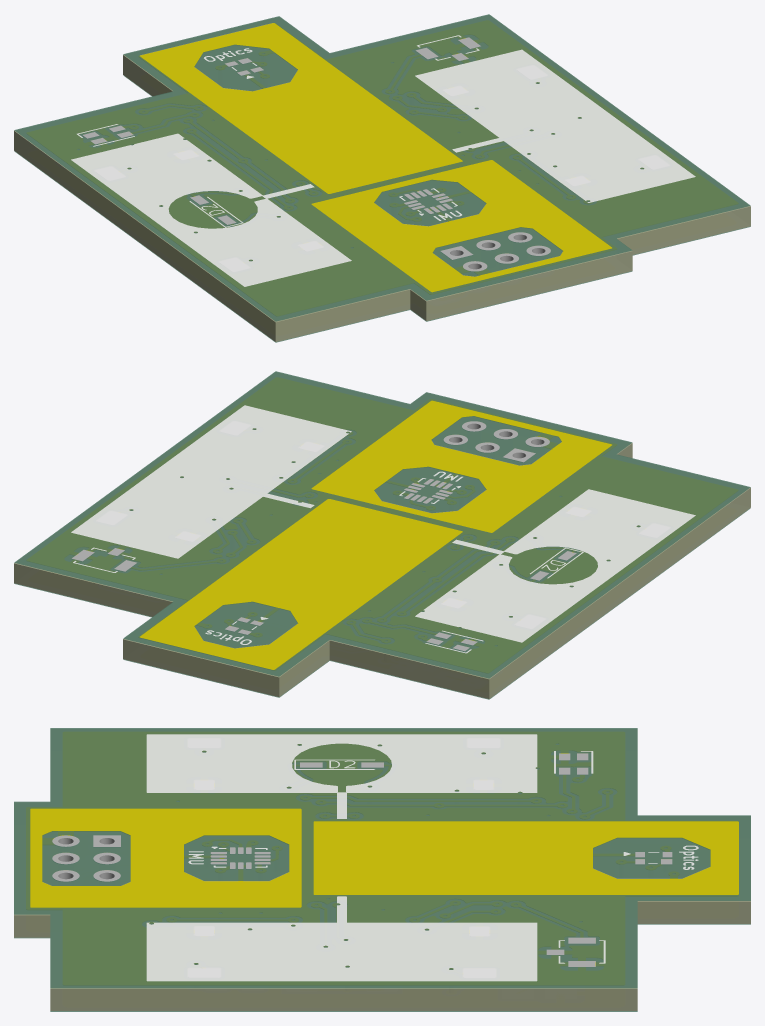
Rendered from hubble-sao-2.glb.
3 views of the same model, one above another, from view 1: azimuth 30°, elevation 25°; view 2: azimuth 150°, elevation 25°; view 3: azimuth 270°, elevation 25° (orthographic). The views are drawn at different scales.
Parts seen in each view (by area): view 1: =>[0:1:1:2], =>[0:1:1:7], =>[0:1:1:5], =>[0:1:1:9]; view 2: =>[0:1:1:2], =>[0:1:1:7], =>[0:1:1:5], =>[0:1:1:9]; view 3: =>[0:1:1:2], =>[0:1:1:7], =>[0:1:1:5], =>[0:1:1:9].
Part boxes in pixels (bbox=[...]): =>[0:1:1:2]: bbox=[27, 21, 737, 315]; =>[0:1:1:7]: bbox=[14, 14, 750, 342]; =>[0:1:1:5]: bbox=[71, 35, 695, 286]; =>[0:1:1:9]: bbox=[14, 15, 750, 341]; =>[0:1:1:2]: bbox=[27, 378, 737, 672]; =>[0:1:1:7]: bbox=[14, 371, 750, 699]; =>[0:1:1:5]: bbox=[71, 405, 695, 653]; =>[0:1:1:9]: bbox=[14, 372, 750, 698]; =>[0:1:1:2]: bbox=[26, 732, 738, 984]; =>[0:1:1:7]: bbox=[14, 728, 750, 1011]; =>[0:1:1:5]: bbox=[146, 734, 698, 981]; =>[0:1:1:9]: bbox=[14, 729, 750, 1010].
Bounding box in the file's own units: 0.038 × 0.00166 × 0.0455.
Materials: 4 (4 with a texture image).
